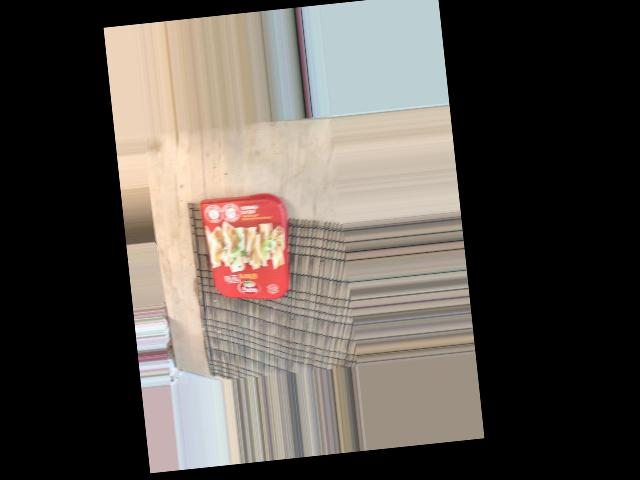cheese: (200, 183, 289, 305)
